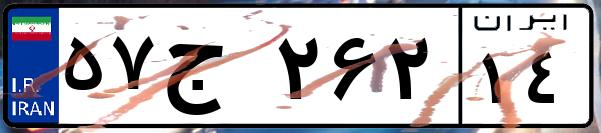1: (475, 38, 525, 113)
2: (270, 28, 330, 110), (385, 28, 445, 110)
4: (525, 38, 570, 115)
5: (57, 26, 110, 100)
6: (330, 28, 385, 110)
7: (110, 28, 158, 98)
ج: (158, 20, 270, 120)
